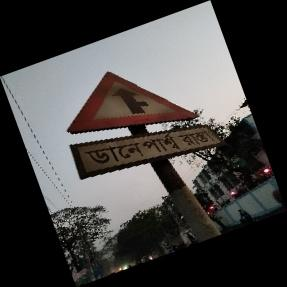Side-road-right: (68, 66, 223, 180)
